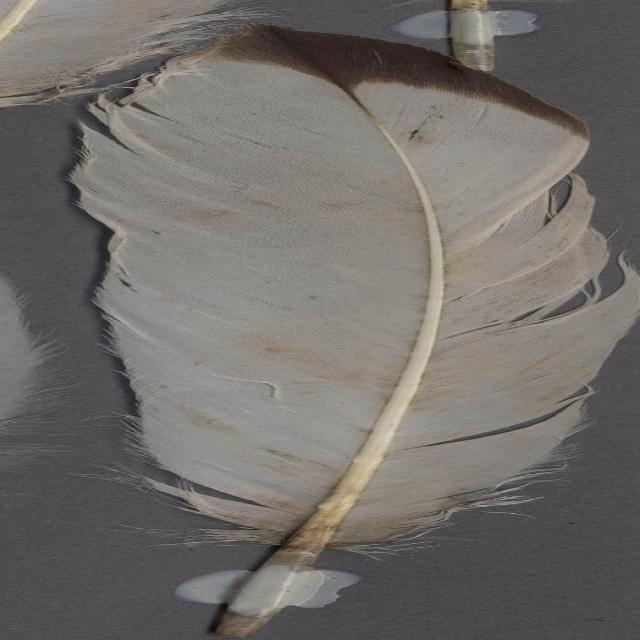feather: (79, 26, 640, 636)
